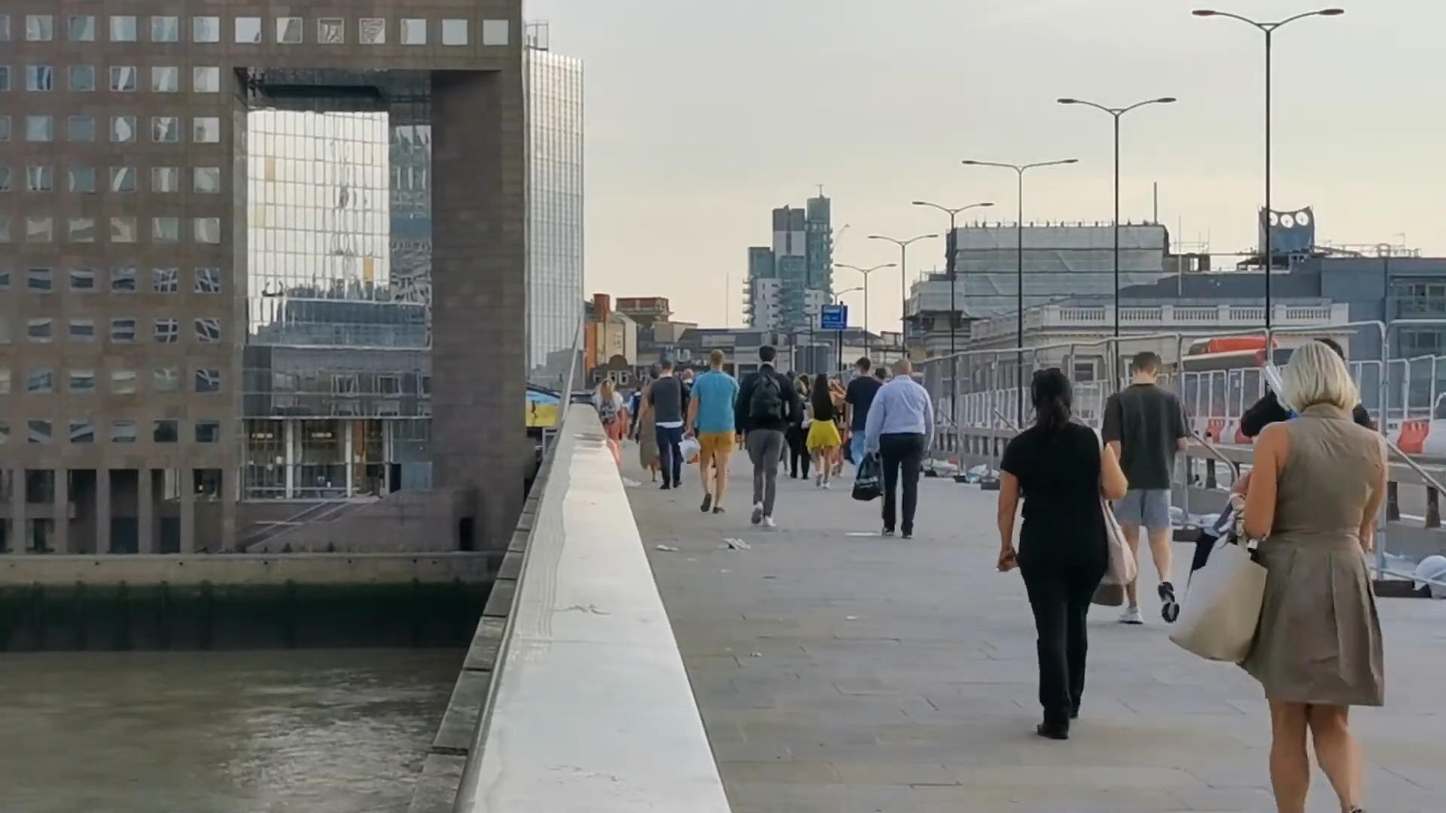no-helmet: (1281, 340, 1358, 417), (1031, 369, 1073, 455), (1130, 351, 1161, 388), (892, 358, 913, 379), (812, 373, 829, 394), (758, 345, 776, 362), (709, 349, 724, 368), (600, 378, 614, 397)
